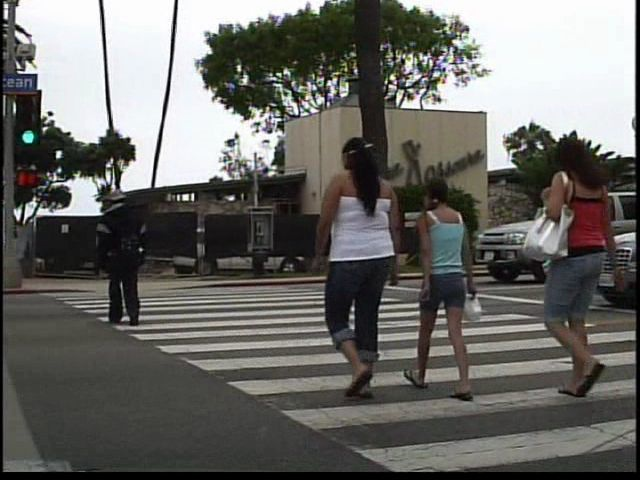person: (307, 126, 418, 399), (543, 136, 630, 410), (413, 170, 487, 405), (92, 182, 158, 334)
